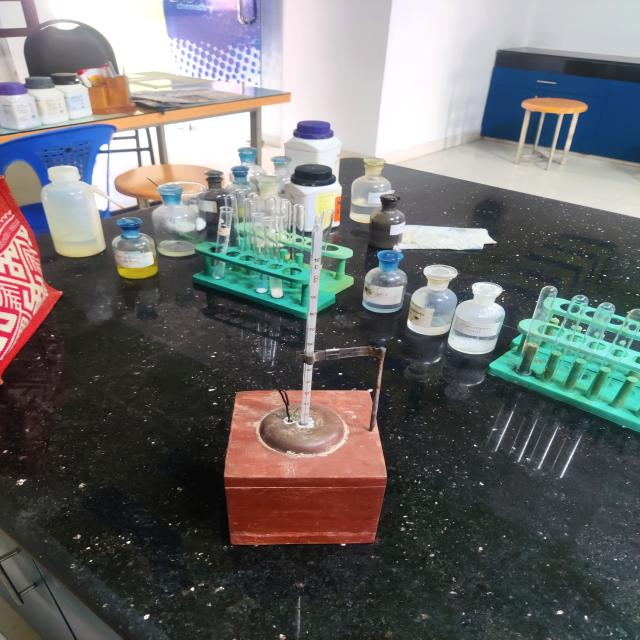Calorimeter: (200, 200, 412, 574)
